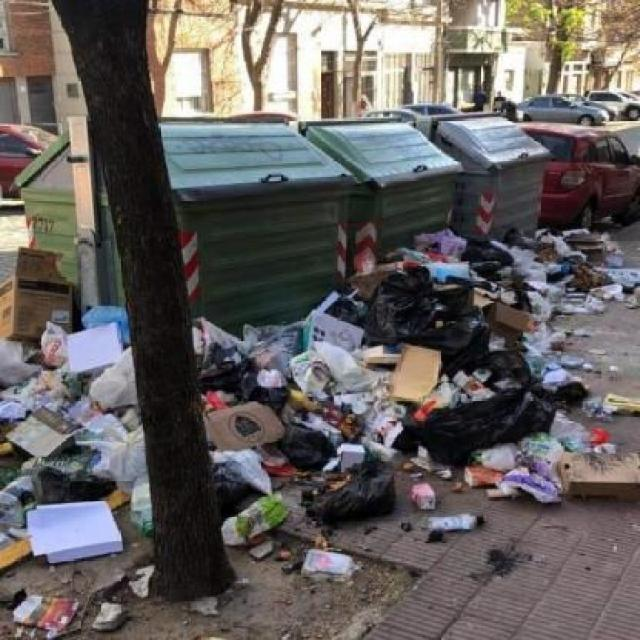garbage: (197, 325, 636, 550), (0, 233, 133, 640), (365, 249, 638, 364), (437, 228, 636, 280)
